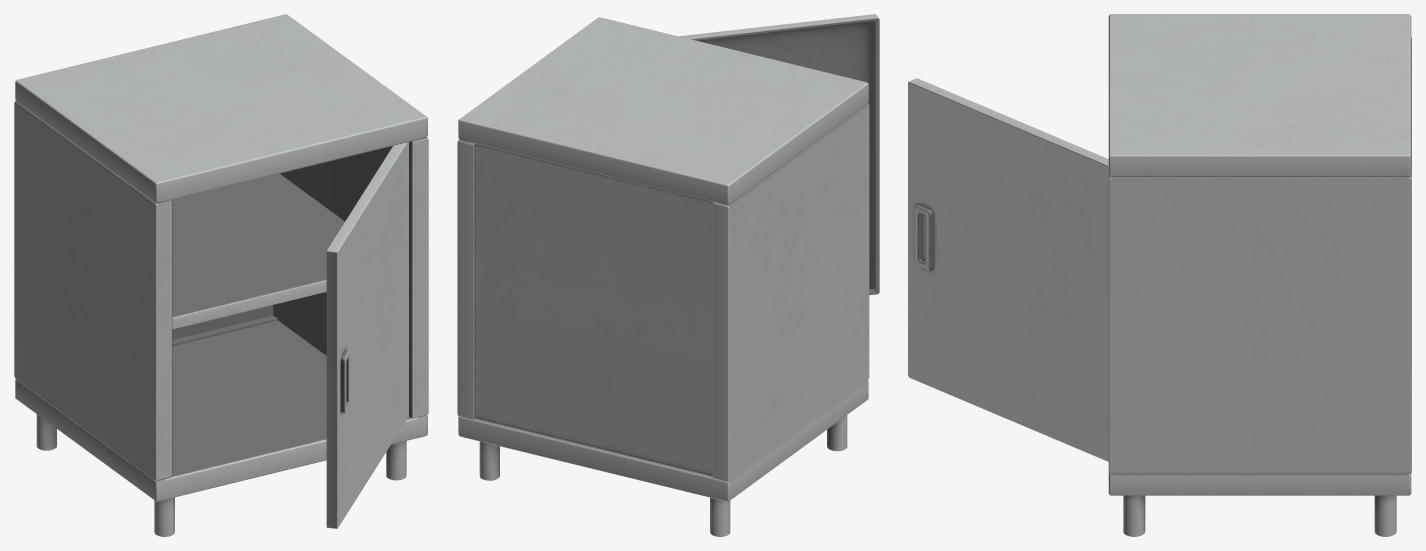
Rendered from CabinetSteel_02_Open.FBX.
3 renders of one model, left to right at view 1: azimuth 30°, elevation 25°; view 2: azimuth 150°, elevation 25°; view 3: azimuth 270°, elevation 25°, orthographic. The views are drawn at different scales.
Parts seen in each view (by area): view 1: CabinetSteel_02_Open; view 2: CabinetSteel_02_Open; view 3: CabinetSteel_02_Open.
Part boxes in pixels (x1,y1,x2,y2): CabinetSteel_02_Open: (14,14,428,536); CabinetSteel_02_Open: (457,14,879,536); CabinetSteel_02_Open: (908,14,1411,536).
Size of the model in its own units: 66.79 by 85 by 99.9.
Materials: 1 (1 with a texture image).
